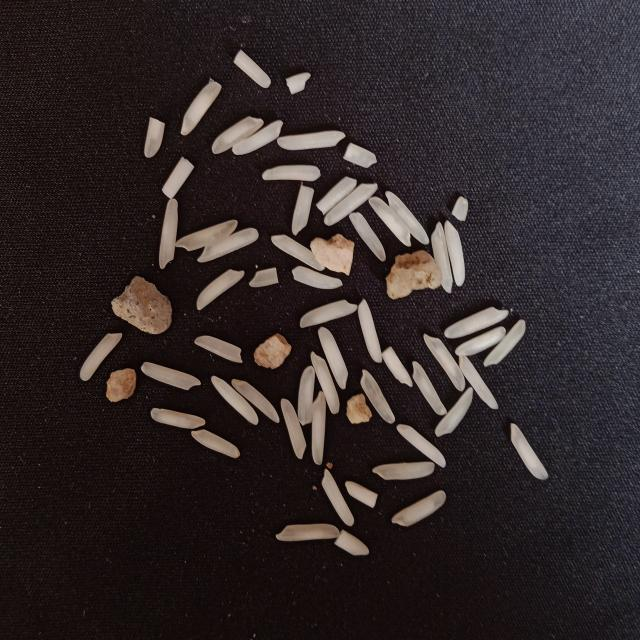Broken: (315, 176, 358, 215), (233, 50, 271, 89), (161, 156, 195, 198), (195, 336, 242, 364), (382, 346, 414, 387), (291, 185, 315, 237), (292, 266, 343, 290), (297, 365, 315, 426), (344, 481, 377, 508), (335, 530, 369, 556), (343, 142, 378, 167), (144, 116, 164, 158), (286, 71, 311, 94), (250, 268, 280, 287), (451, 196, 469, 223)
Full: (423, 333, 468, 391), (385, 191, 429, 246), (368, 196, 411, 252), (324, 184, 380, 227), (212, 376, 260, 426), (180, 81, 222, 136), (78, 332, 124, 381), (232, 379, 281, 424), (196, 228, 260, 262), (397, 423, 447, 466), (510, 424, 548, 480), (459, 356, 498, 410), (444, 307, 509, 339), (175, 220, 240, 252), (196, 269, 245, 311), (211, 116, 265, 154), (317, 326, 348, 390), (484, 319, 526, 366), (271, 235, 324, 272), (360, 369, 396, 423), (391, 491, 446, 526), (412, 362, 447, 417), (321, 468, 354, 526), (435, 388, 473, 437), (310, 351, 339, 415), (231, 119, 282, 155), (349, 212, 385, 262), (141, 362, 201, 391), (431, 219, 454, 294), (300, 300, 360, 328), (357, 299, 383, 363), (281, 398, 307, 460), (455, 327, 507, 356), (191, 429, 241, 458), (277, 130, 346, 151), (158, 198, 178, 270), (445, 221, 466, 288), (151, 408, 205, 430), (311, 390, 326, 464), (276, 524, 340, 541), (373, 461, 436, 478), (262, 164, 320, 182)
